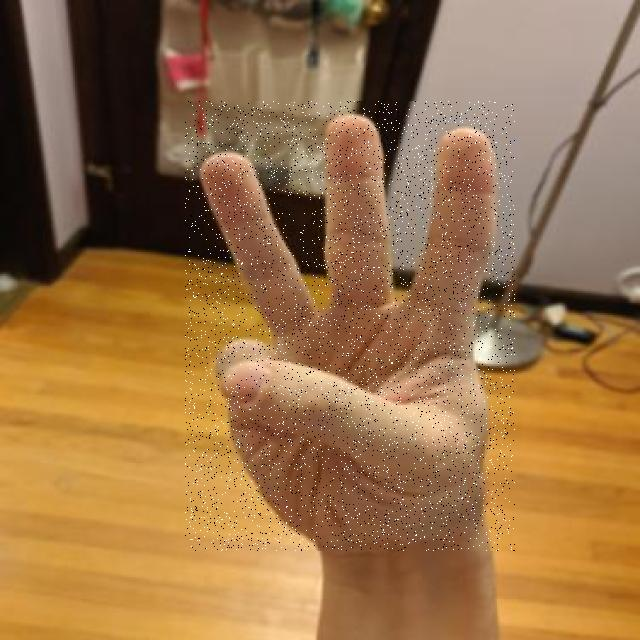W: (185, 101, 516, 551)
